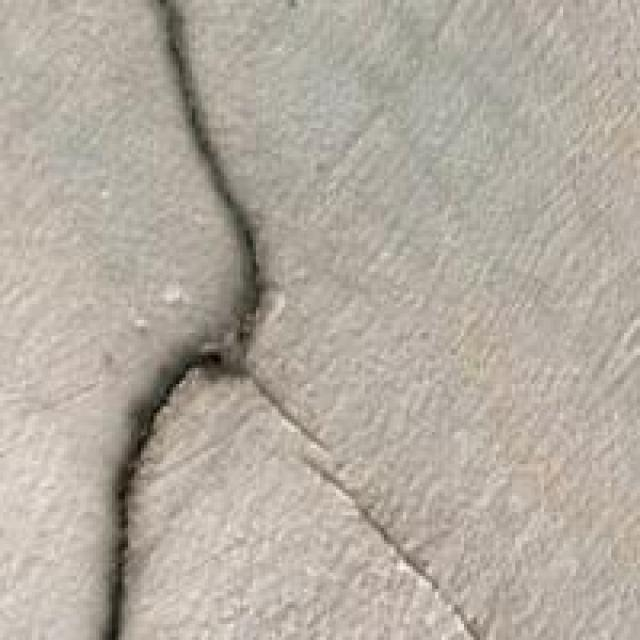Crack: (58, 3, 378, 637)
